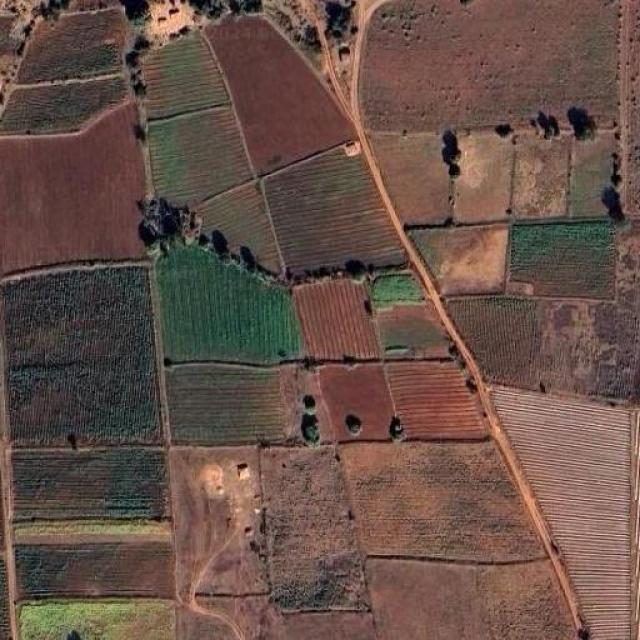land-Sx1C: (535, 0, 640, 402), (361, 0, 618, 133), (494, 388, 630, 639), (4, 265, 160, 446), (0, 101, 145, 276), (340, 442, 545, 563), (205, 16, 356, 175), (264, 145, 405, 272), (262, 446, 366, 616), (158, 246, 301, 363), (170, 446, 268, 604), (166, 362, 300, 446), (14, 449, 168, 520), (149, 106, 252, 204), (368, 561, 490, 640), (17, 540, 174, 598), (448, 296, 541, 388), (18, 8, 128, 84), (385, 362, 488, 440), (195, 182, 281, 272), (511, 222, 612, 297), (372, 131, 450, 224), (145, 34, 229, 120), (0, 76, 124, 134), (292, 280, 380, 359), (486, 561, 571, 640), (411, 226, 508, 294), (20, 600, 174, 640), (318, 364, 392, 441), (454, 131, 512, 224), (176, 595, 286, 640), (511, 134, 568, 218), (375, 301, 449, 358), (570, 130, 616, 217), (284, 612, 376, 640), (372, 276, 421, 299), (355, 614, 371, 634)
